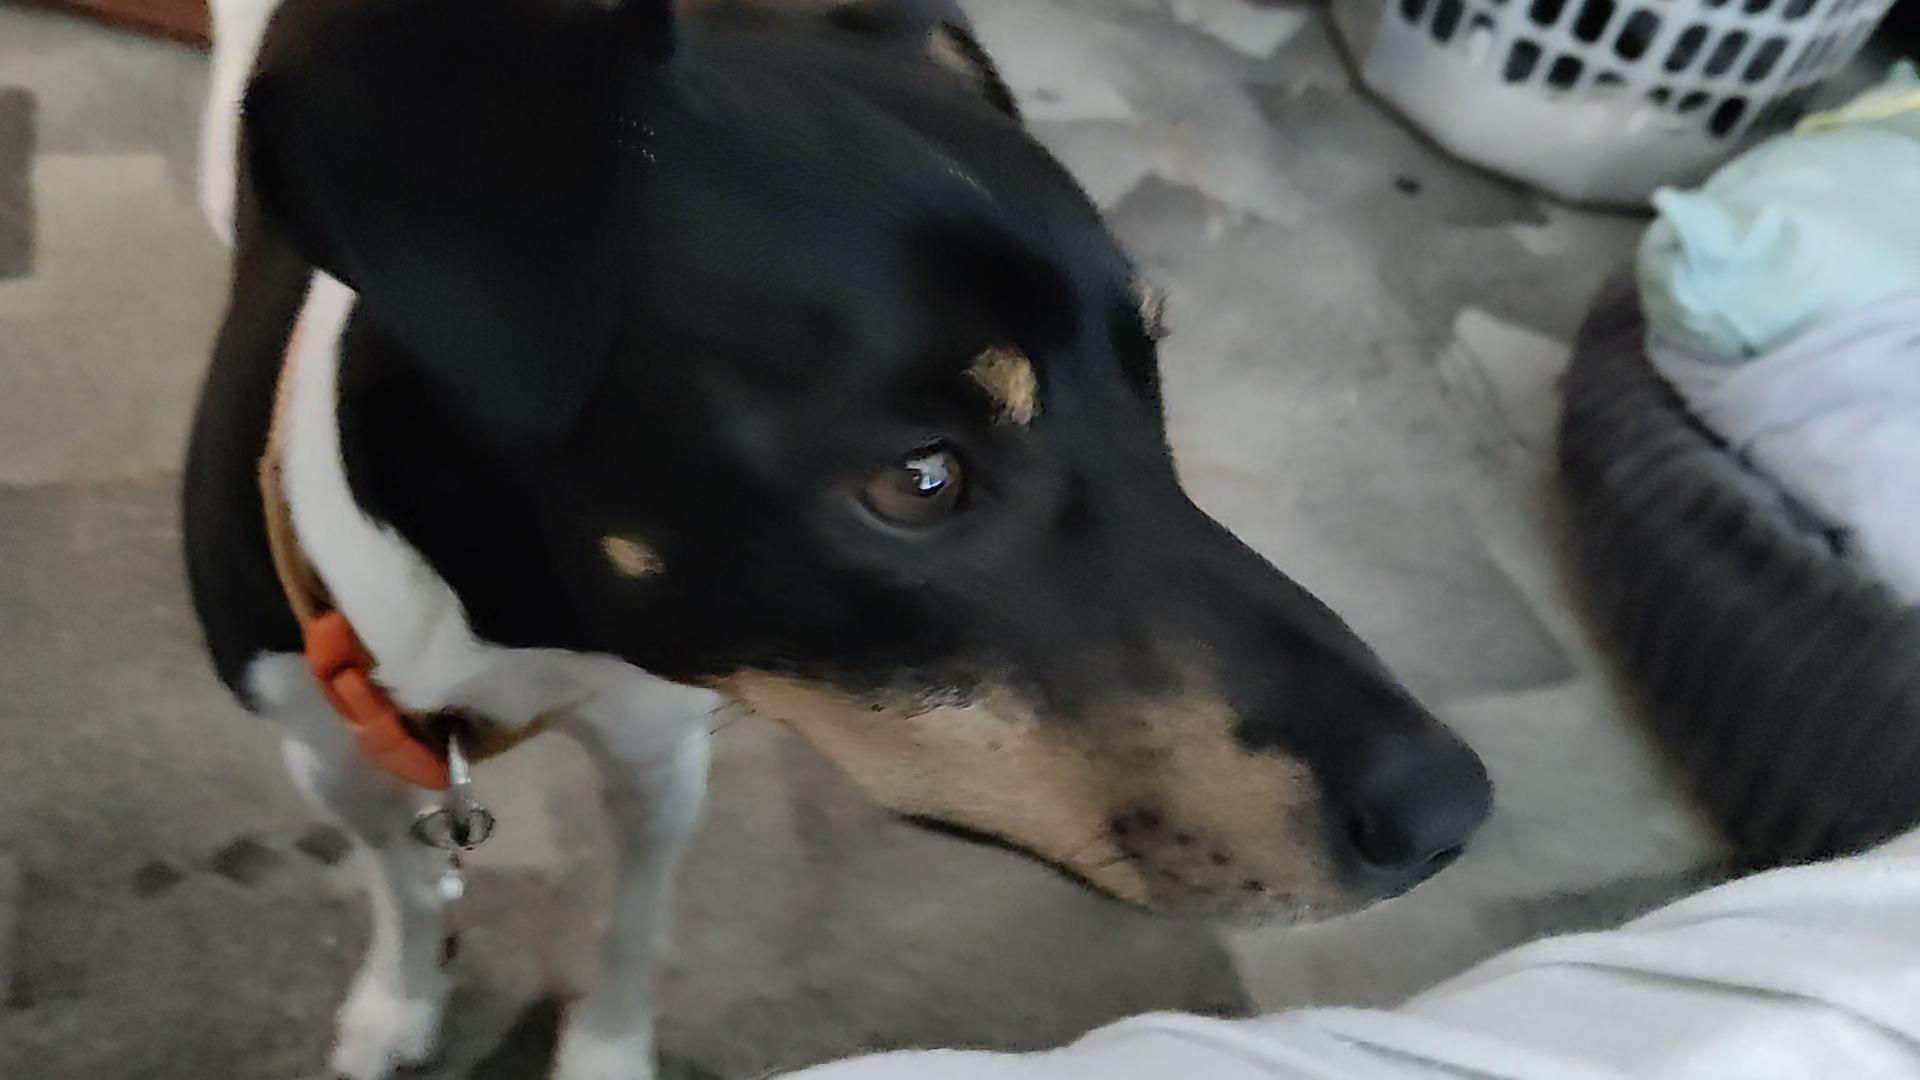Dog: (158, 0, 1513, 1080)
